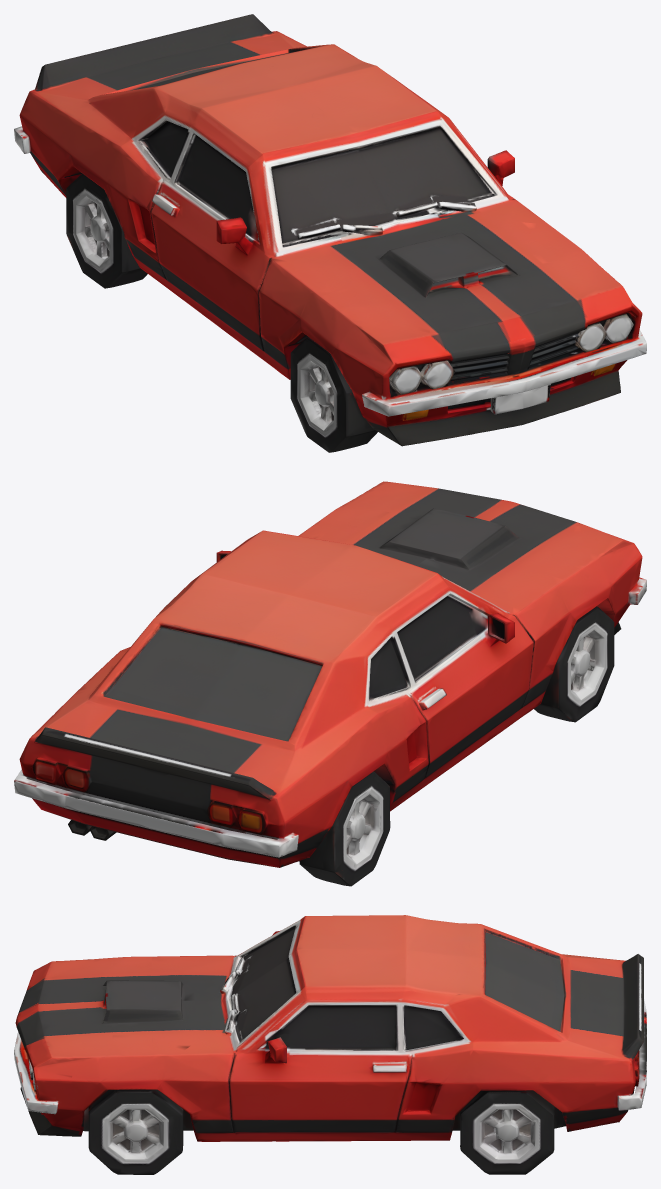
File: car4.fbx
3 views of the same model, one above another, from view 1: azimuth 30°, elevation 25°; view 2: azimuth 150°, elevation 25°; view 3: azimuth 270°, elevation 25° (orthographic). The views are drawn at different scales.
Parts seen in each view (by area): view 1: node_0; view 2: node_0; view 3: node_0.
Part boxes in pixels (left/top/right/bottom): node_0: left=14, top=14, right=646, bottom=452; node_0: left=14, top=481, right=646, bottom=886; node_0: left=14, top=915, right=646, bottom=1174.
Size of the model in its own units: 50.04 by 33.92 by 113.
